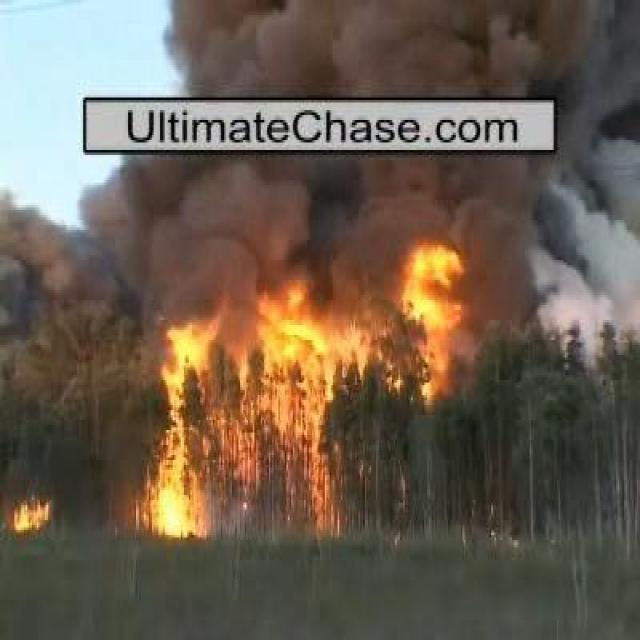Fire: (147, 360, 330, 542)
Smoke: (90, 155, 632, 345)
